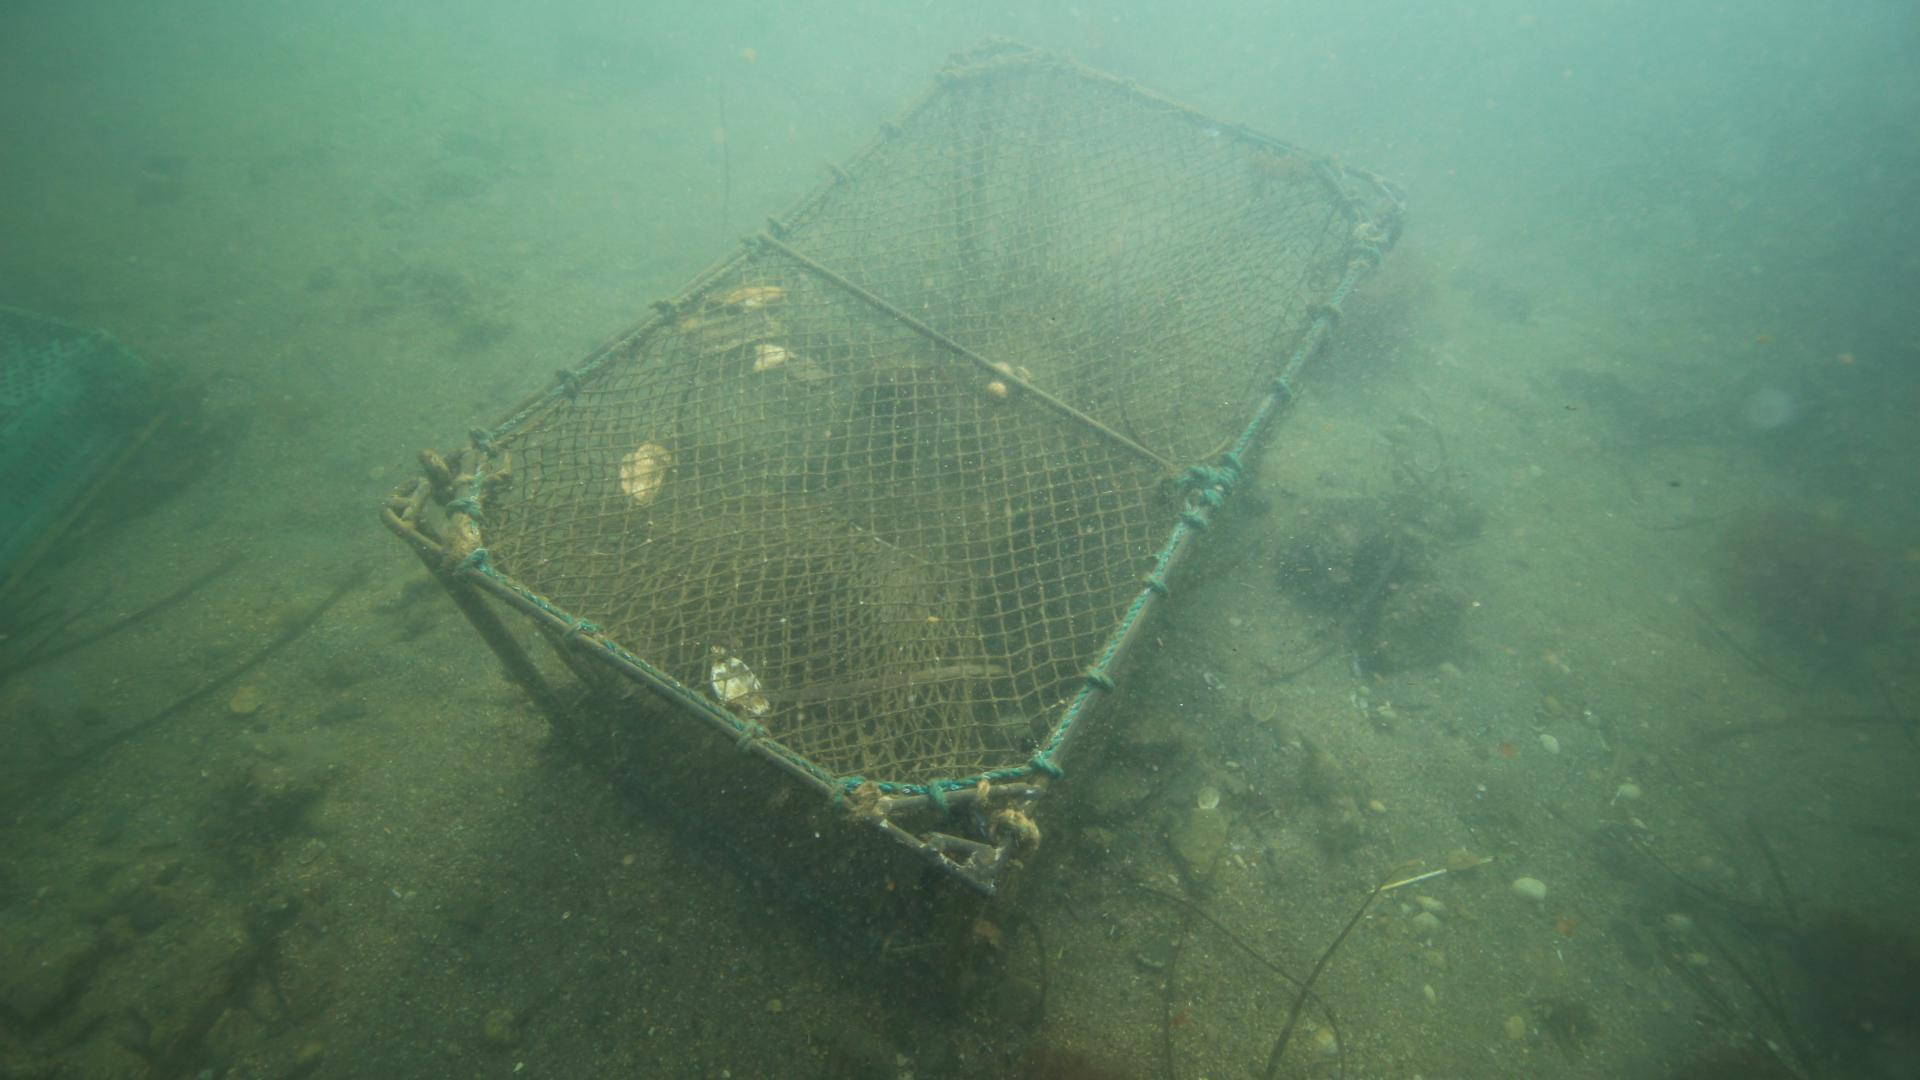rectangular fish trap: (377, 33, 1414, 1005)
